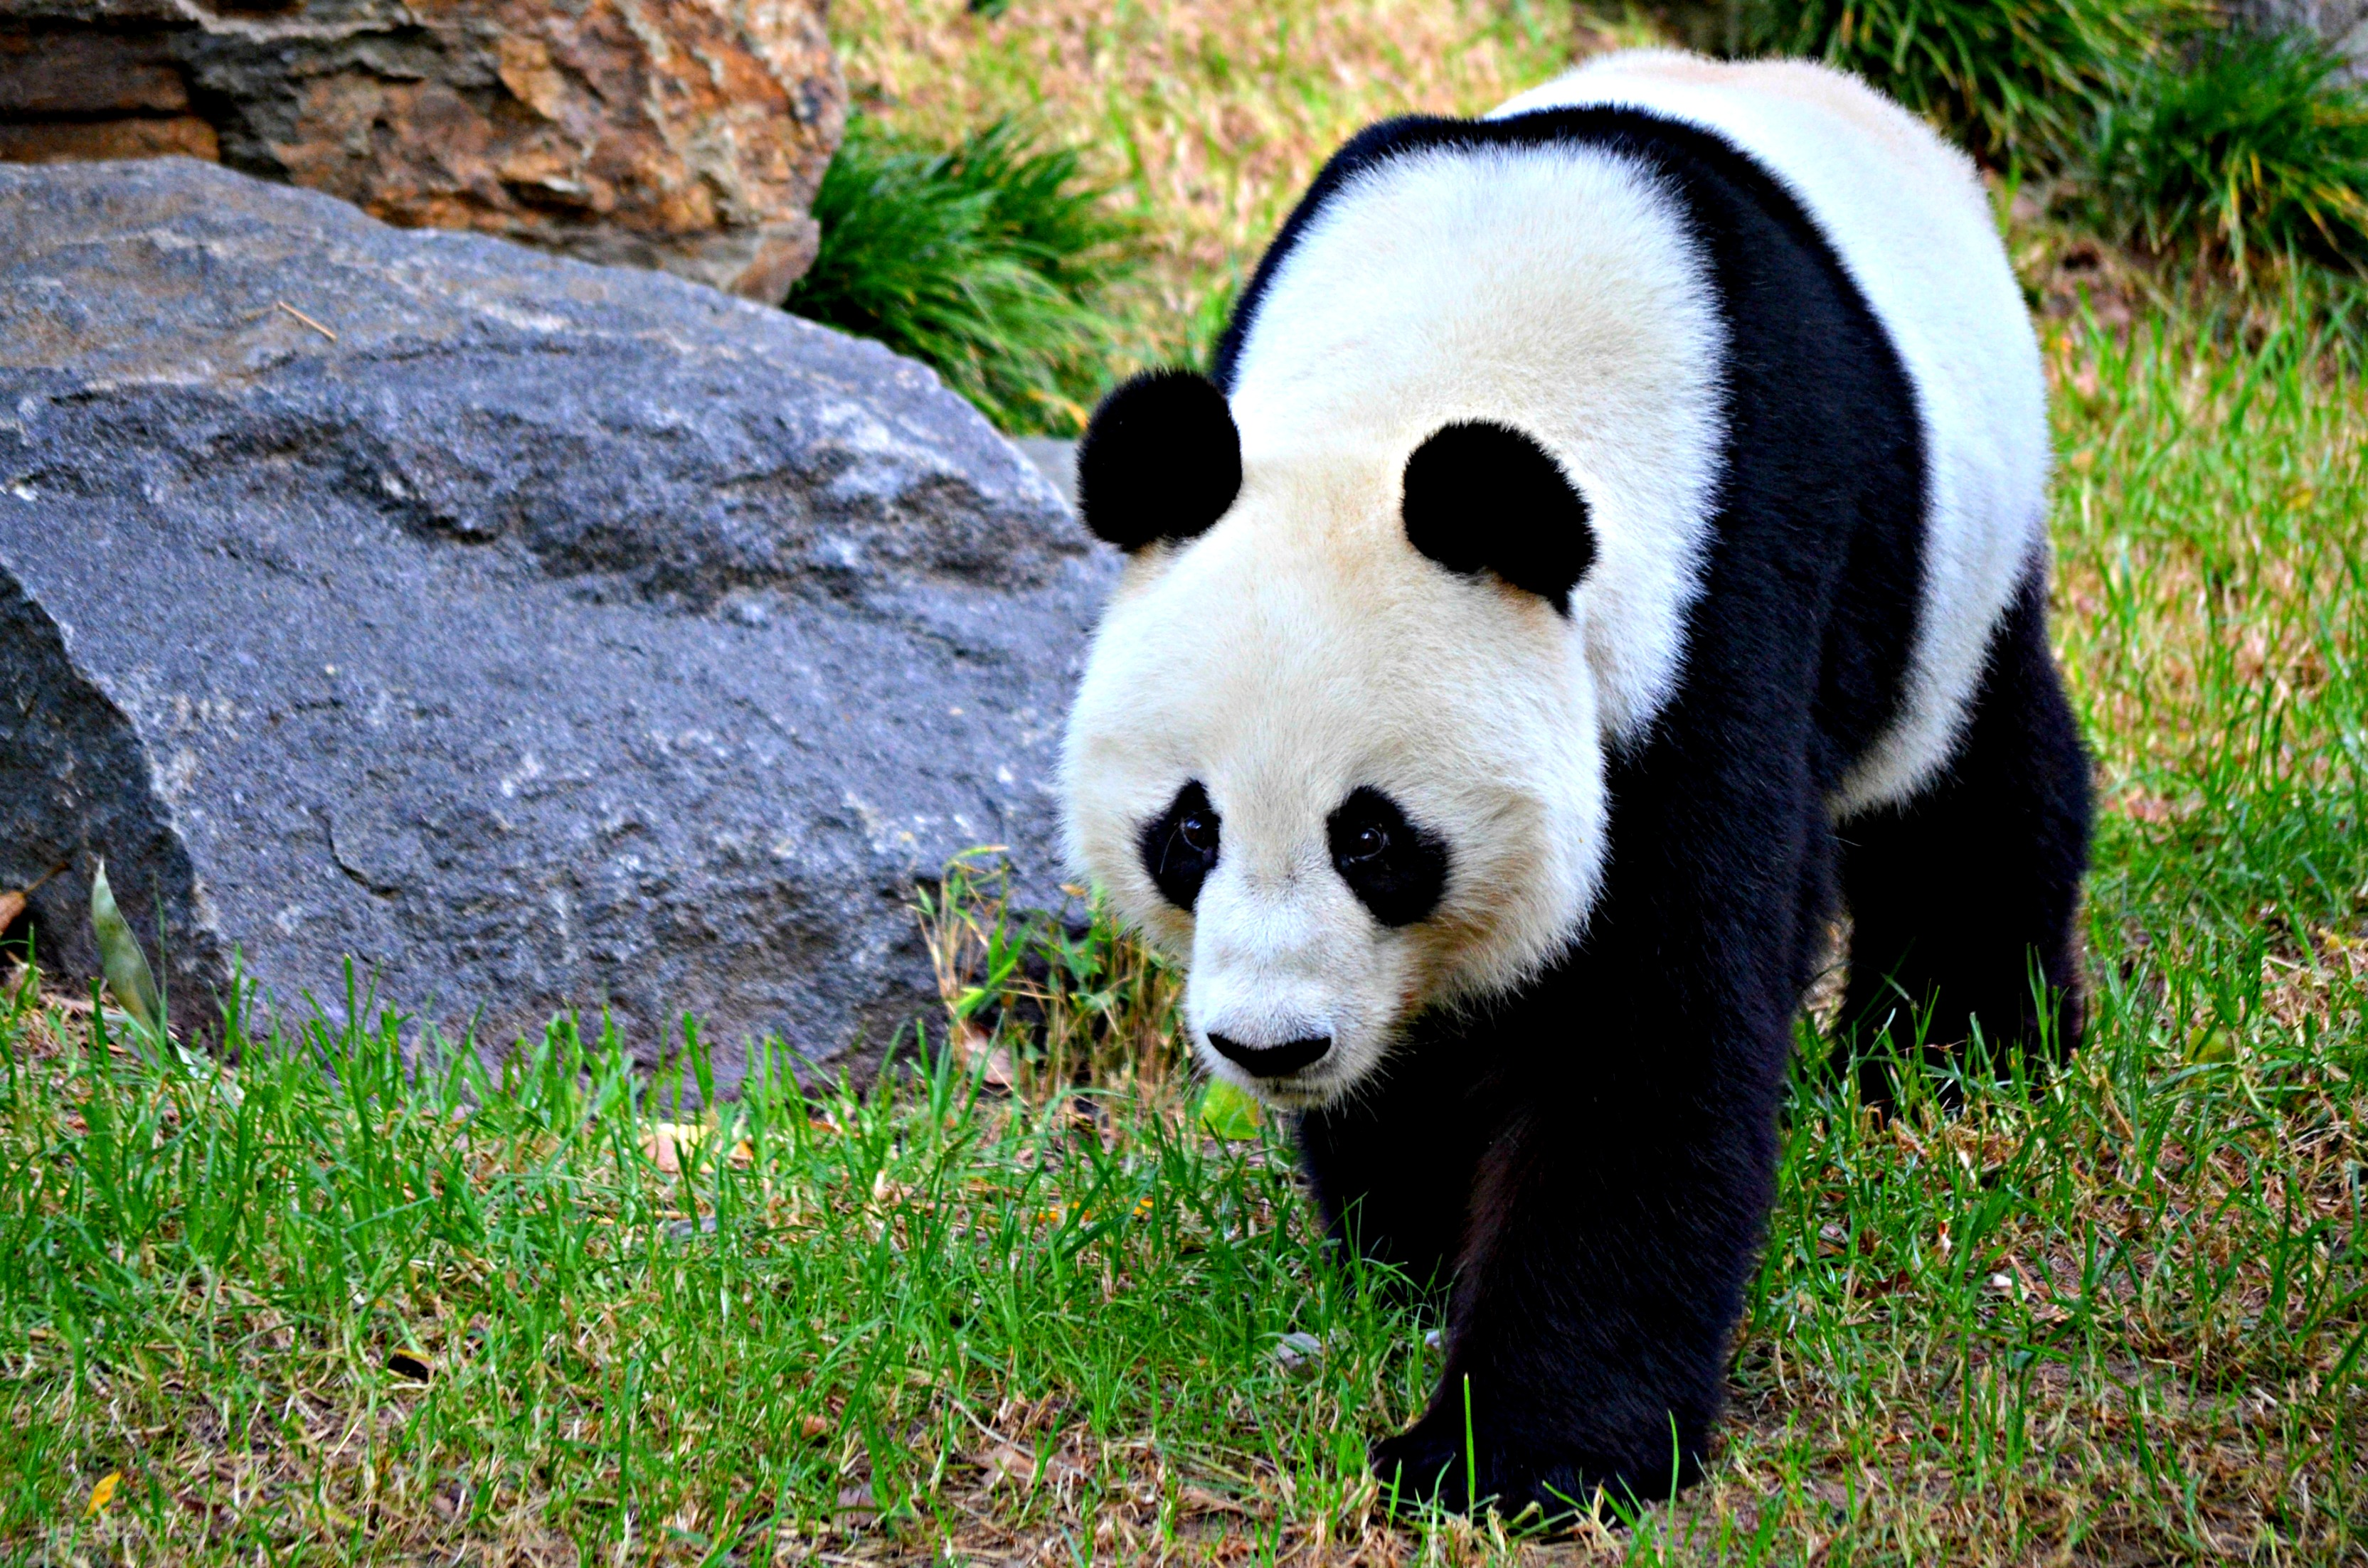panda: (963, 37, 2090, 1505)
